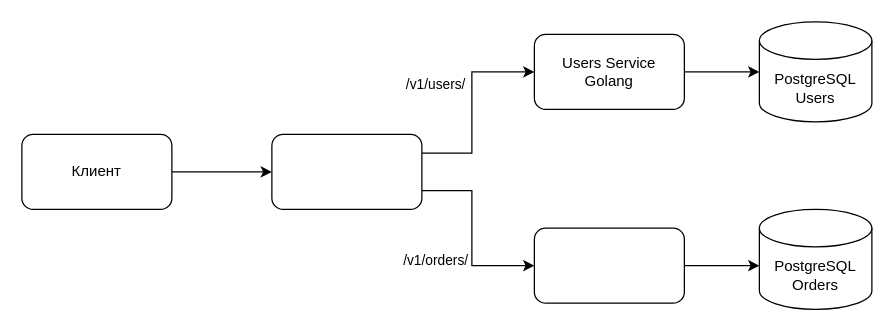
Some shapes in this 894 by 331 pixel diagram are drawn without their labels. Here are the shapes that lost their labels. From the top down, the centre of each, then its label:
At (346,171): "API Gateway Golang".
At (608,265): "Orders Service Golang".
